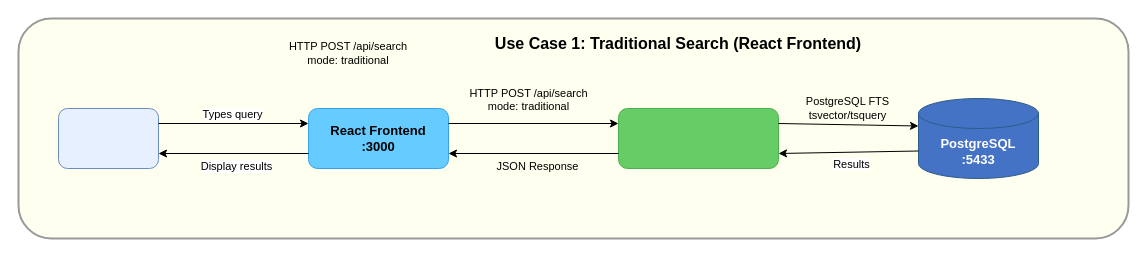
This 1146x256 diagram has some shape labels left out. Each missing label, with the centre of its shape:
"Spring Boot Backend :8080" belongs at (x=698, y=138).
"👤 User" belongs at (x=108, y=138).
